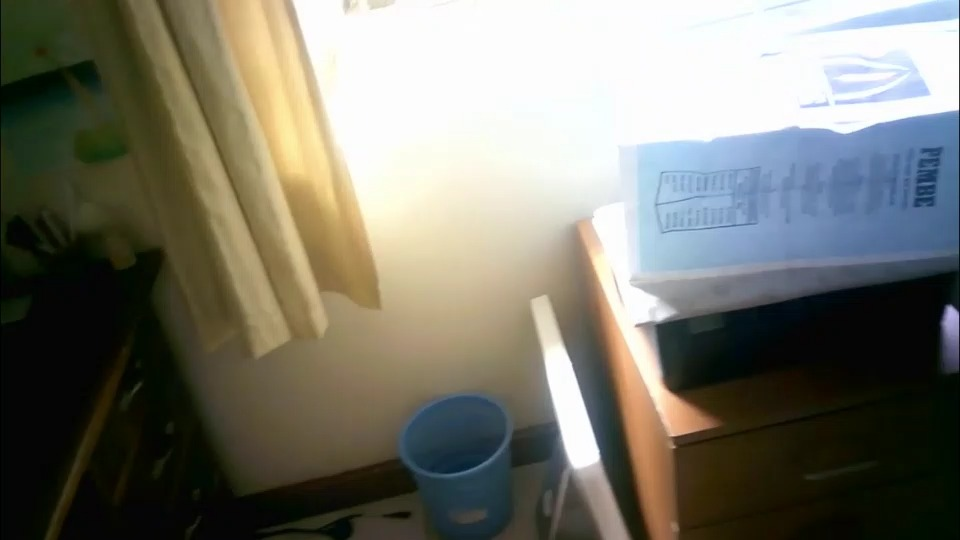wheat_flour_blue_label: (613, 41, 957, 266)
